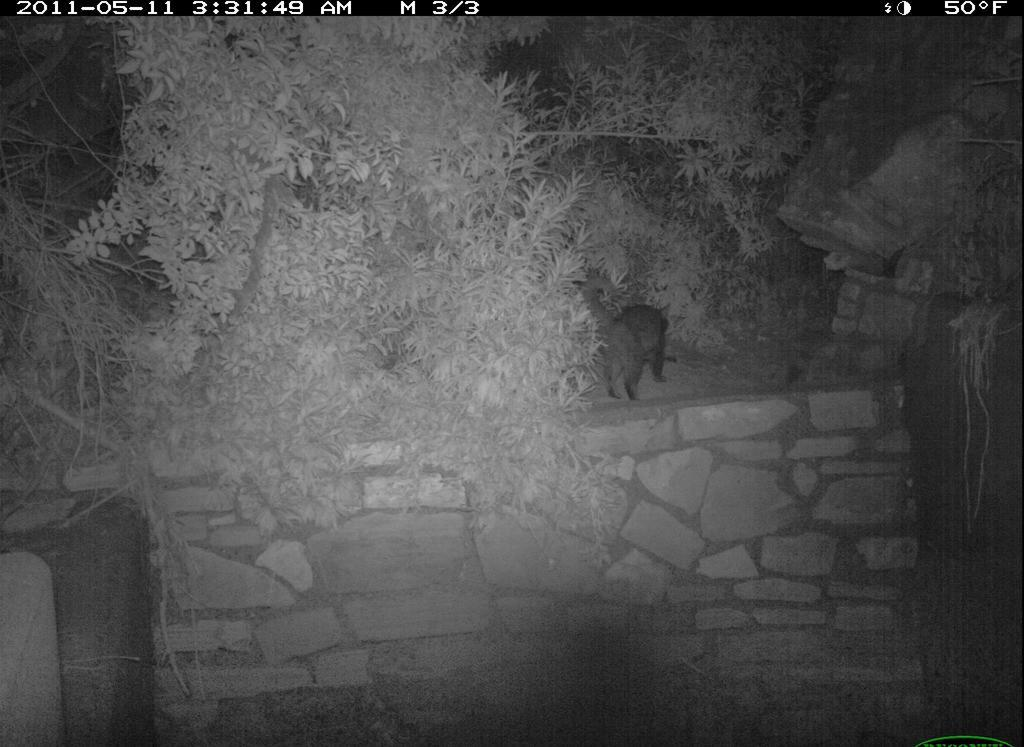cat: (573, 273, 701, 419)
